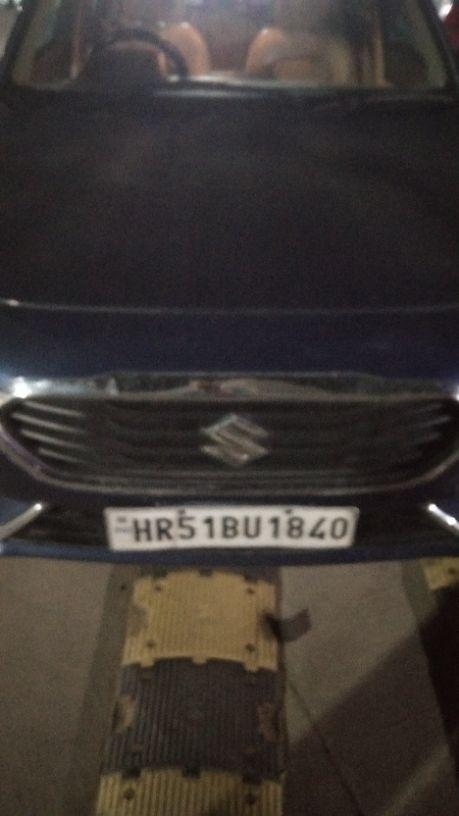license_plate: (1, 368, 457, 501), (101, 502, 360, 552)
